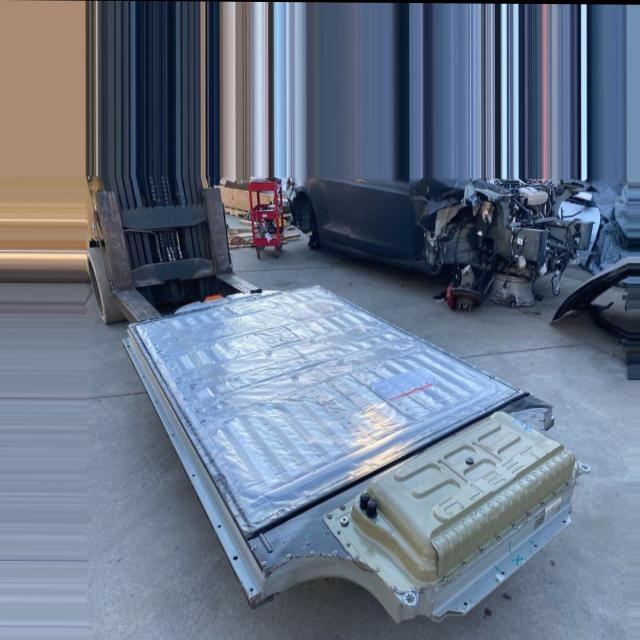Nut: (337, 514, 349, 529), (338, 510, 350, 523)
Screw: (476, 544, 487, 555), (330, 546, 338, 558), (457, 557, 467, 566), (462, 455, 474, 462), (410, 585, 418, 595), (572, 464, 580, 474), (252, 540, 258, 553), (440, 573, 447, 584), (261, 556, 268, 566), (539, 499, 546, 508), (322, 529, 328, 539), (340, 503, 348, 510), (552, 488, 560, 495), (306, 539, 312, 548), (526, 510, 533, 517), (286, 551, 292, 559), (327, 513, 333, 521), (375, 563, 380, 572), (495, 534, 501, 541), (307, 550, 315, 555), (353, 554, 361, 559), (345, 542, 351, 548), (565, 480, 571, 486), (511, 522, 516, 529), (389, 586, 395, 589)
